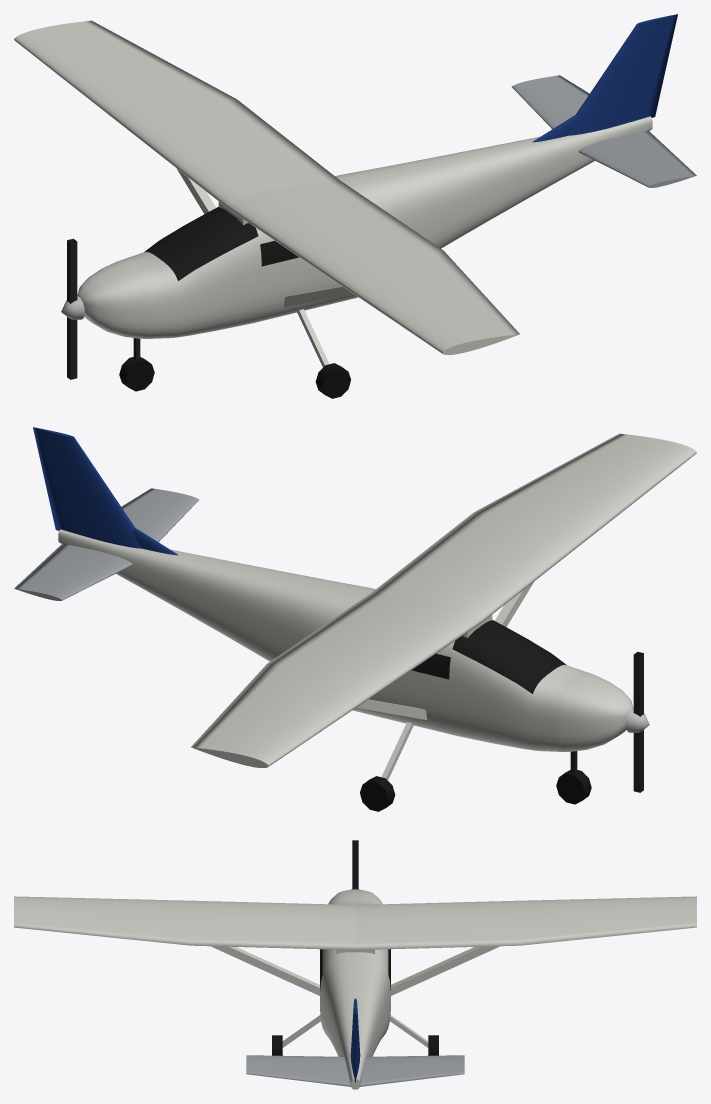
The picture shows the model from 3 angles, top to bottom: view 1: azimuth 30°, elevation 25°; view 2: azimuth 150°, elevation 25°; view 3: azimuth 270°, elevation 25°; orthographic projection. The views are drawn at different scales.
Visible parts, largest first — view 1: c172; view 2: c172; view 3: c172.
Boxes of the visible parts, x1=… form: c172: x1=14, y1=14, x2=696, y2=398; c172: x1=14, y1=427, x2=696, y2=811; c172: x1=14, y1=840, x2=696, y2=1089.
Bounding box in the file's own units: 8.96 × 3.46 × 10.78.
